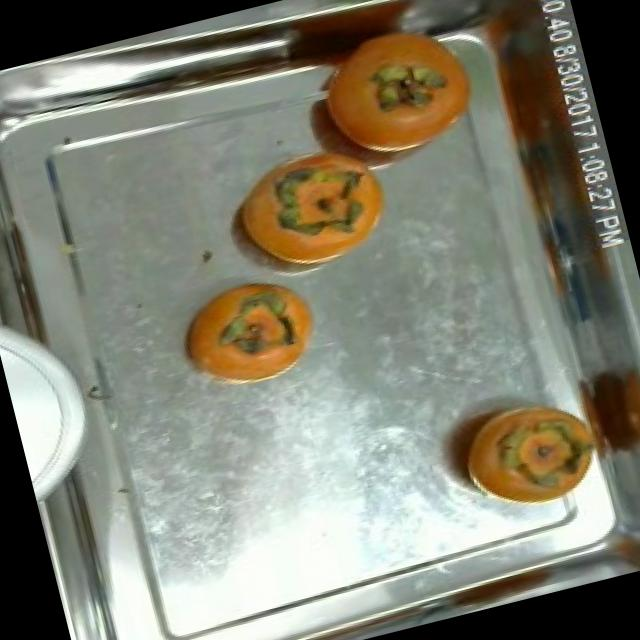Fruit: (292, 2, 506, 186), (219, 130, 412, 290), (158, 257, 335, 407), (437, 375, 608, 527), (547, 345, 640, 489)
